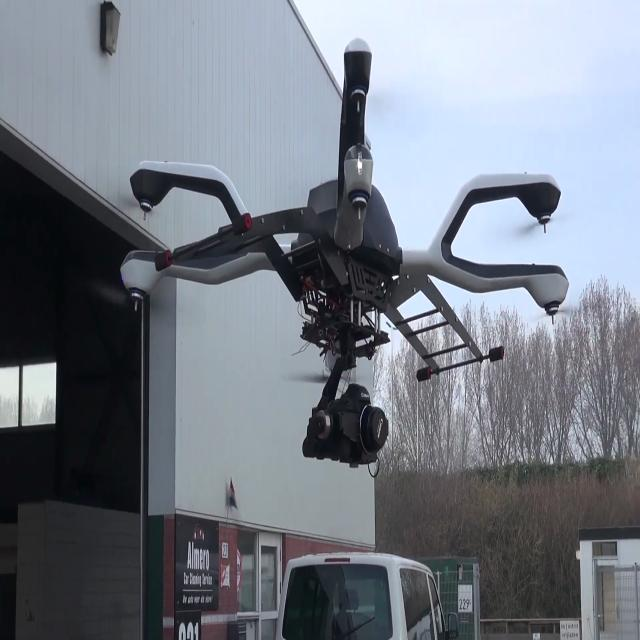drone: (106, 23, 573, 467)
